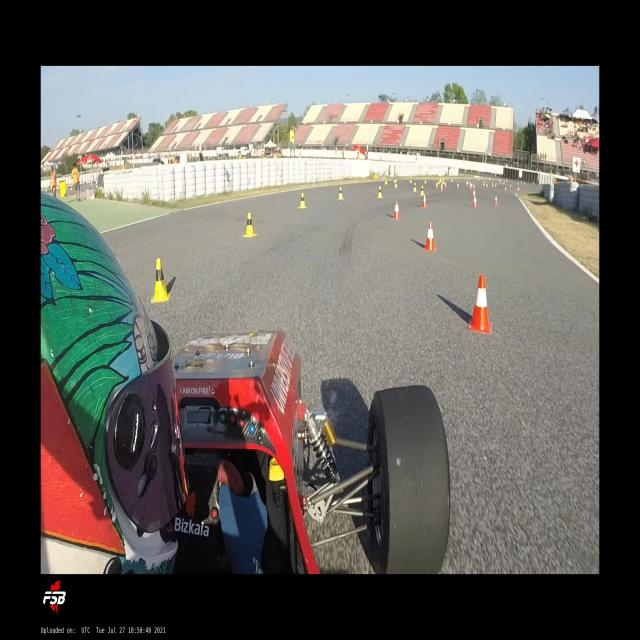orange_cone: (468, 274, 492, 334), (422, 222, 437, 252), (393, 201, 400, 220), (422, 194, 427, 209), (472, 196, 478, 208), (494, 196, 498, 205), (472, 189, 476, 198), (444, 182, 447, 188), (441, 184, 443, 191), (457, 183, 459, 189), (436, 183, 438, 188)
yellow_cone: (150, 258, 170, 302), (243, 213, 257, 237), (298, 192, 307, 208), (337, 187, 344, 199), (377, 185, 383, 198), (420, 185, 424, 196), (394, 179, 398, 188), (442, 178, 445, 185), (414, 182, 416, 192), (385, 176, 387, 185), (409, 177, 412, 183), (424, 178, 426, 184), (438, 178, 440, 184), (451, 178, 453, 182)
